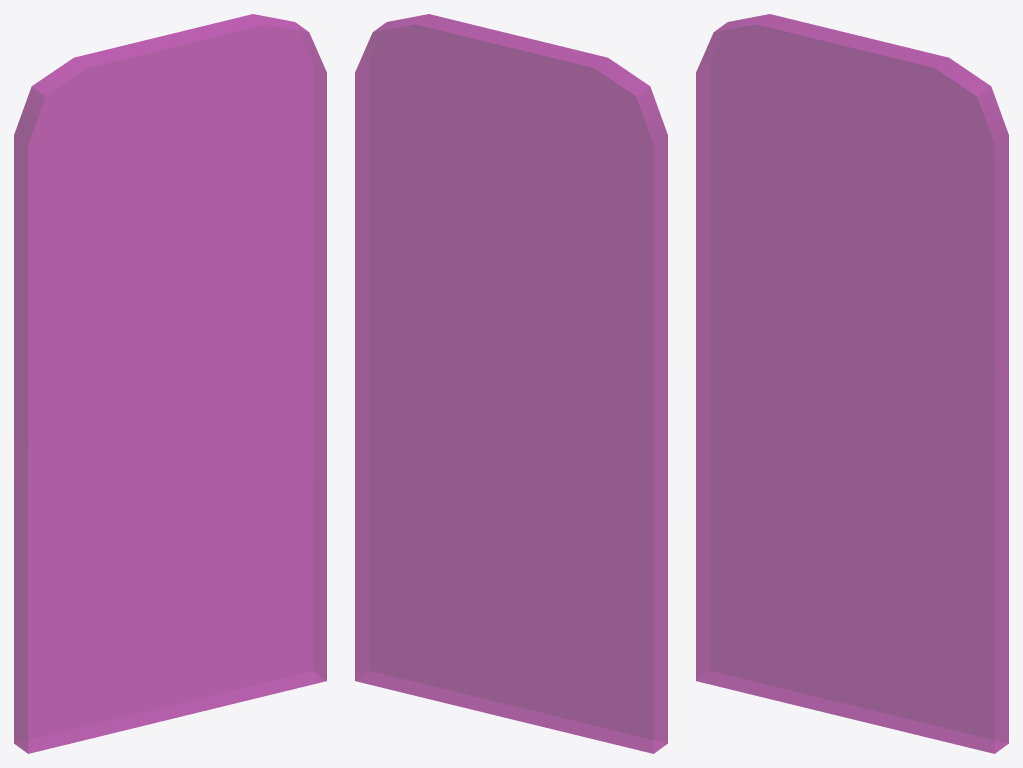
Rendered from SM_Prop_Portaloo_01_Door_Collision.fbx.
The picture shows the model from 3 angles, left to right: view 1: azimuth 30°, elevation 25°; view 2: azimuth 150°, elevation 25°; view 3: azimuth 330°, elevation 25°; orthographic projection.
Visible parts, largest first — view 1: SM_Prop_Portaloo_01_Door_Collision; view 2: SM_Prop_Portaloo_01_Door_Collision; view 3: SM_Prop_Portaloo_01_Door_Collision.
Part boxes in pixels (box(x1,y1,x2,y2)): SM_Prop_Portaloo_01_Door_Collision: box(14, 14, 326, 753); SM_Prop_Portaloo_01_Door_Collision: box(355, 14, 667, 753); SM_Prop_Portaloo_01_Door_Collision: box(696, 14, 1008, 753).
Size of the model in its own units: 117 by 251 by 9.55.
